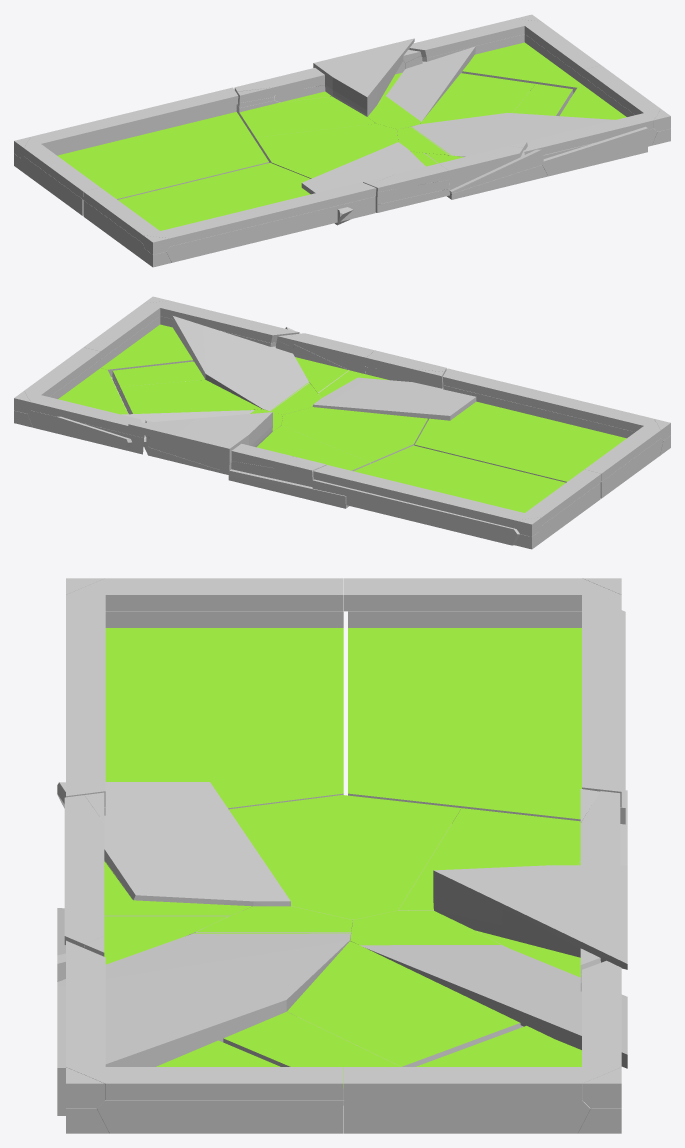
File: Damaged Grave Stage_2.fbx
The picture shows the model from 3 angles, top to bottom: view 1: azimuth 30°, elevation 25°; view 2: azimuth 150°, elevation 25°; view 3: azimuth 270°, elevation 25°; orthographic projection. The views are drawn at different scales.
Parts seen in each view (by area): view 1: Grave Bottom_cell; view 2: Grave Bottom_cell; view 3: Grave Bottom_cell.
Part boxes in pixels (box(x1,y1,x2,y2)): Grave Bottom_cell: box(14, 14, 670, 267); Grave Bottom_cell: box(14, 296, 670, 549); Grave Bottom_cell: box(57, 578, 627, 1133).
Bounding box in the file's own units: 815 × 47.61 × 389.
